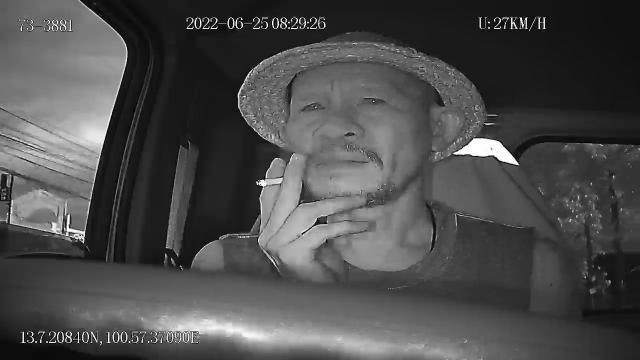SafeDriving: (353, 87, 393, 112), (294, 94, 330, 117)
Smoking: (254, 176, 284, 188)
